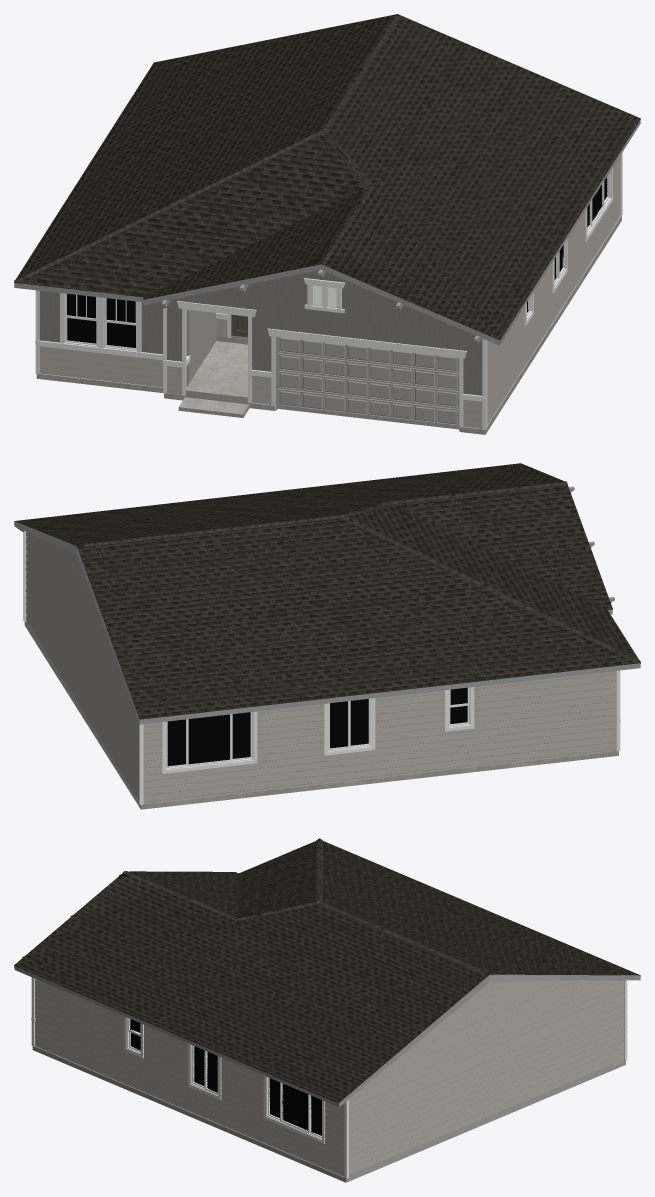
The model's file is KBhomes_1989_elevation_craftsman.glb.
The picture shows the model from 3 angles, top to bottom: view 1: azimuth 30°, elevation 25°; view 2: azimuth 150°, elevation 25°; view 3: azimuth 270°, elevation 25°; orthographic projection. The views are drawn at different scales.
Visible parts, largest first — view 1: Rectangle8.Rectangl13; view 2: Rectangle8.Rectangl13; view 3: Rectangle8.Rectangl13.
Part boxes in pixels (x1=…): Rectangle8.Rectangl13: x1=14, y1=14, x2=640, y2=434; Rectangle8.Rectangl13: x1=14, y1=463, x2=640, y2=809; Rectangle8.Rectangl13: x1=14, y1=838, x2=640, y2=1182.
Size of the model in its own units: 19.5 by 5.25 by 19.62.
11 materials, 3 textured.
